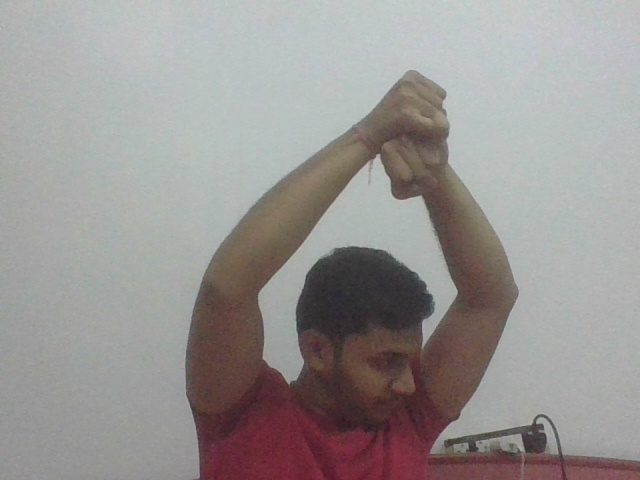S: (377, 68, 456, 206)
